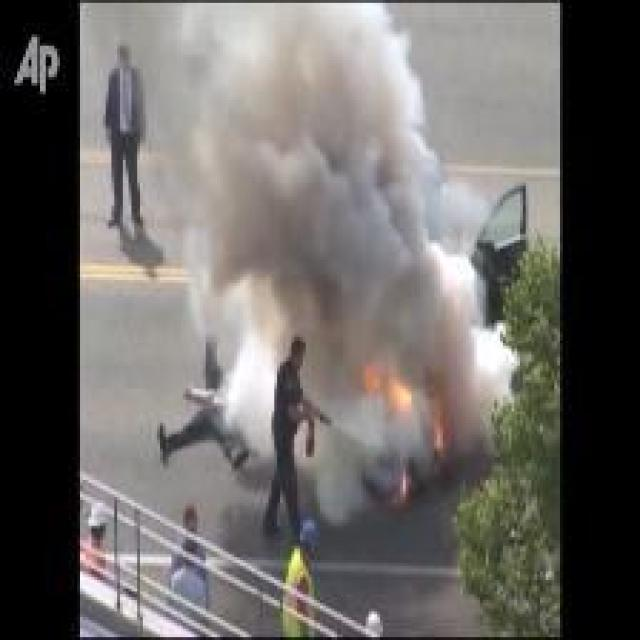smoke: (131, 3, 531, 492)
